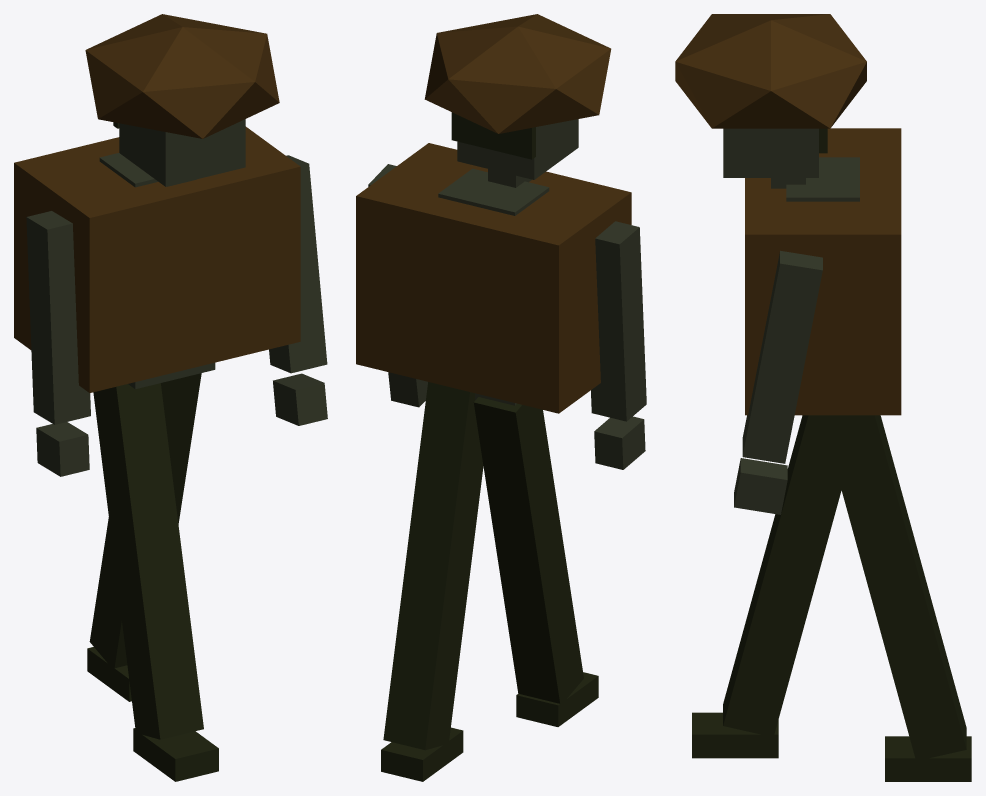
Rendered from SM_Zombi_v19_Uniformado_LOD1.fbx.
The picture shows the model from 3 angles, left to right: view 1: azimuth 30°, elevation 25°; view 2: azimuth 150°, elevation 25°; view 3: azimuth 270°, elevation 25°; orthographic projection. The views are drawn at different scales.
Parts seen in each view (by area): view 1: SM_zombi_fino_v19_LOD1; view 2: SM_zombi_fino_v19_LOD1; view 3: SM_zombi_fino_v19_LOD1.
Boxes of the visible parts, x1,y1,x2,y2 form: SM_zombi_fino_v19_LOD1: (14,14,327,781); SM_zombi_fino_v19_LOD1: (356,14,646,781); SM_zombi_fino_v19_LOD1: (675,14,971,781).
Bounding box in the file's own units: 0.72 × 1.88 × 0.6837.
